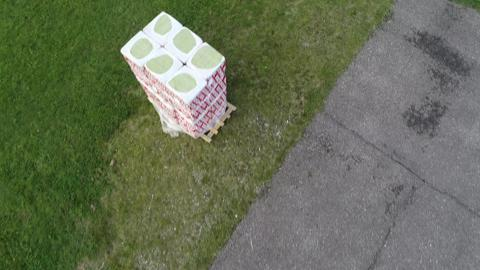RockwoolPallet: (120, 10, 228, 140)
